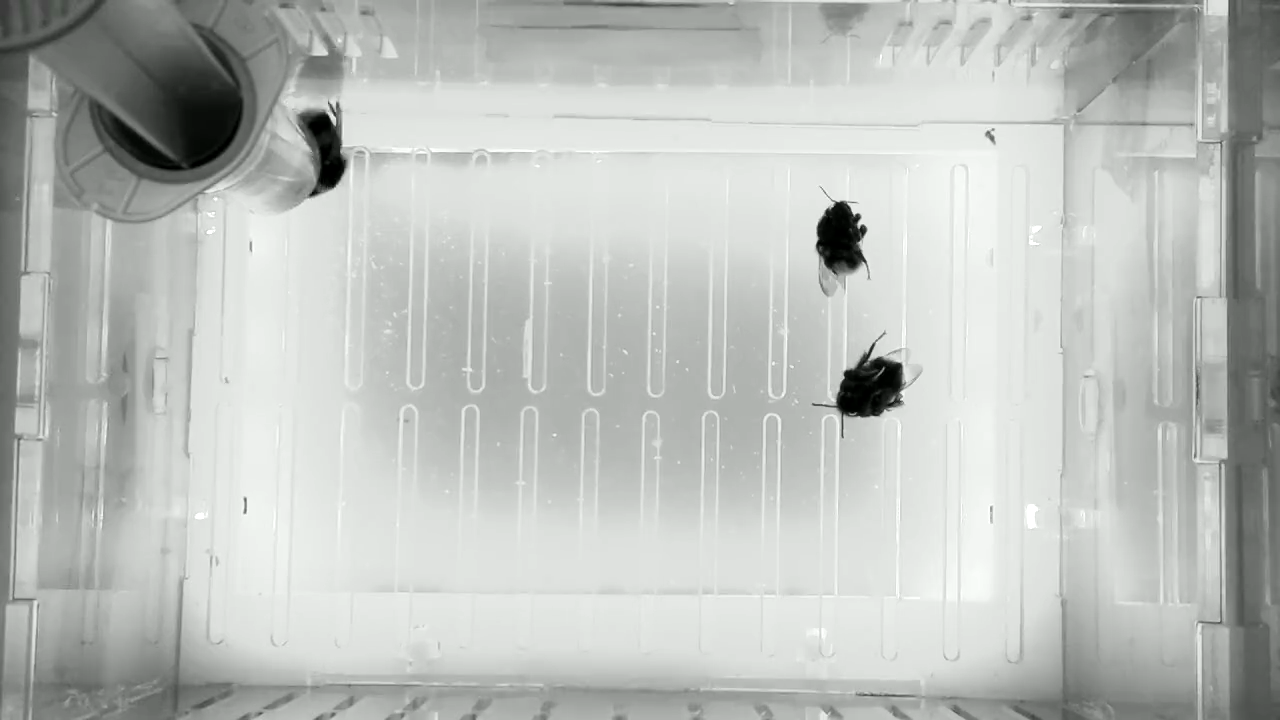bee_alive: (282, 92, 354, 202)
bee_dead: (809, 328, 928, 445), (809, 183, 876, 302)
feeder: (201, 91, 325, 221)
